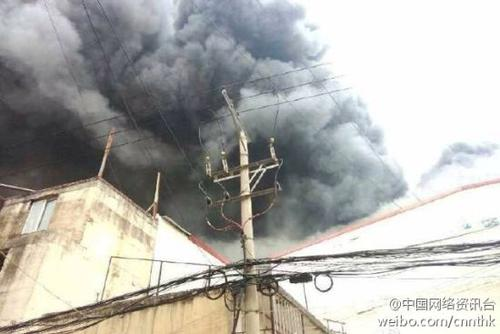smoke: (21, 2, 381, 218)
